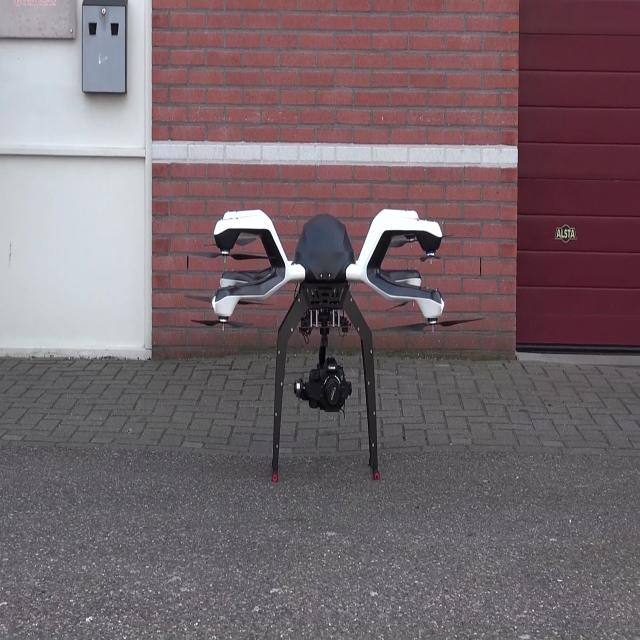drone: (185, 163, 459, 510)
